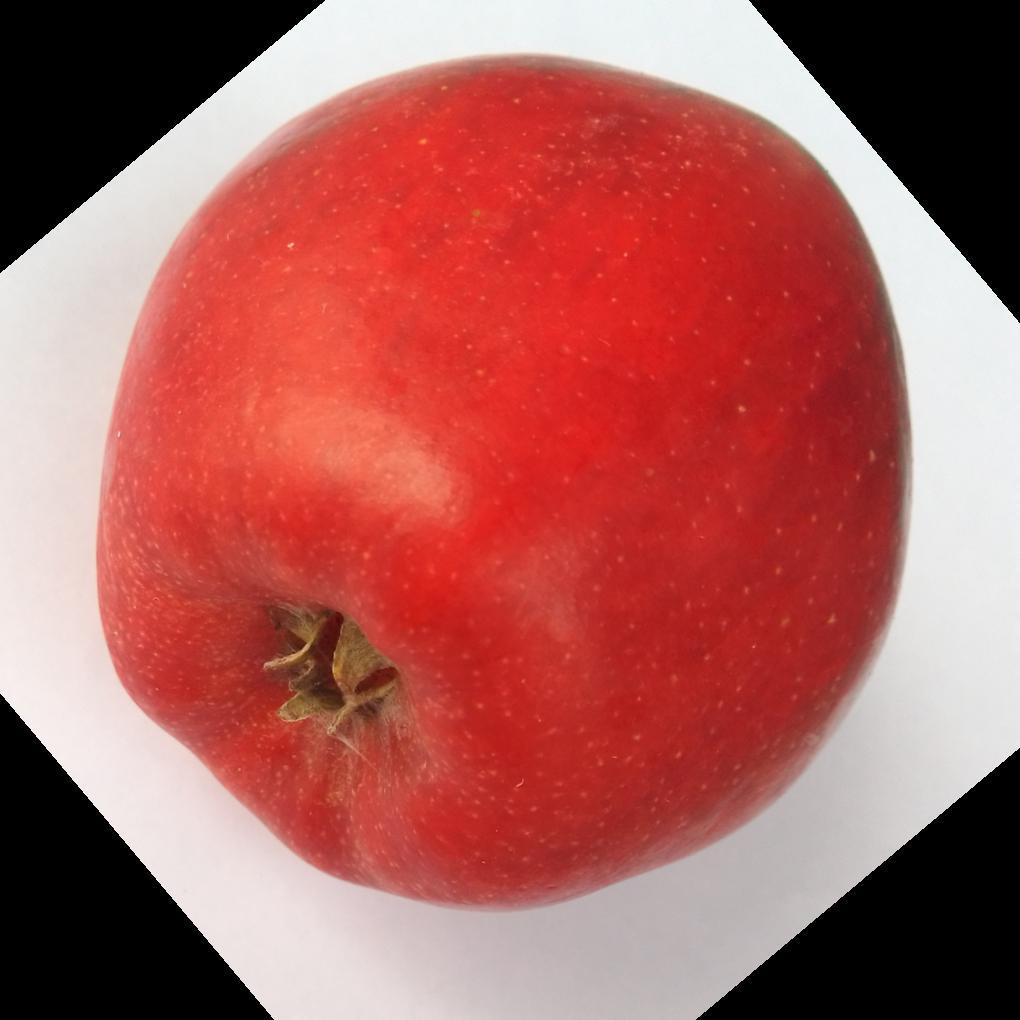FreshGuava: (91, 54, 912, 917)
